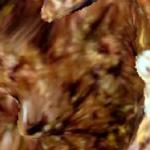alive: (7, 8, 149, 142)
